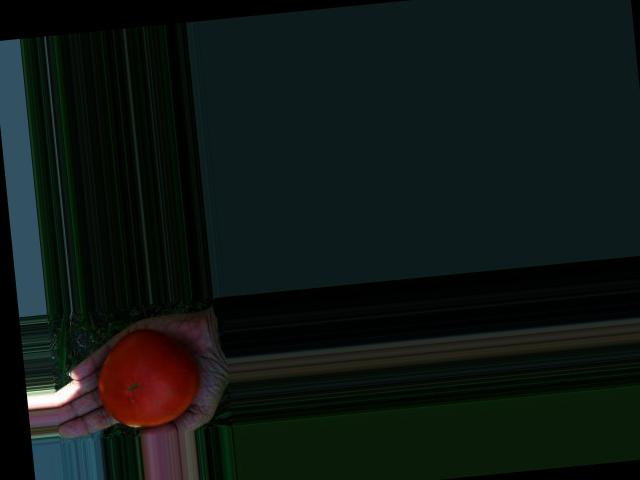tomato: (92, 323, 202, 431)
